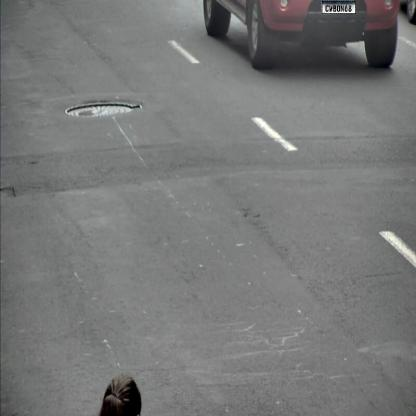PlacaM: (322, 1, 356, 14)
